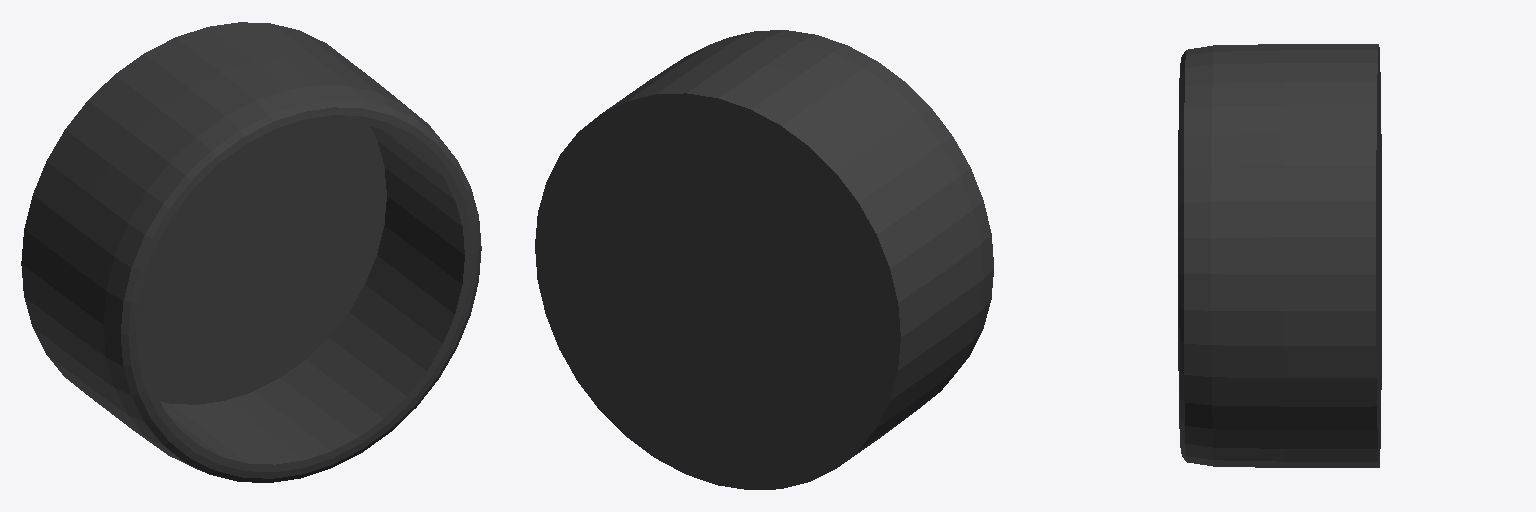
The model's file is Events-BtnBase-Distance.obj.
The picture shows the model from 3 angles: view 1: azimuth 30°, elevation 25°; view 2: azimuth 150°, elevation 25°; view 3: azimuth 270°, elevation 25°; orthographic projection.
Parts seen in each view (by area): view 1: Events-BtnBase-Distance_BaseBouton.010; view 2: Events-BtnBase-Distance_BaseBouton.010; view 3: Events-BtnBase-Distance_BaseBouton.010.
Part boxes in pixels (x1,y1,x2,y2): Events-BtnBase-Distance_BaseBouton.010: (21,22,481,482); Events-BtnBase-Distance_BaseBouton.010: (535,30,993,489); Events-BtnBase-Distance_BaseBouton.010: (1178,44,1381,467).
Bounding box in the file's own units: 0.15 × 0.1498 × 0.0718.